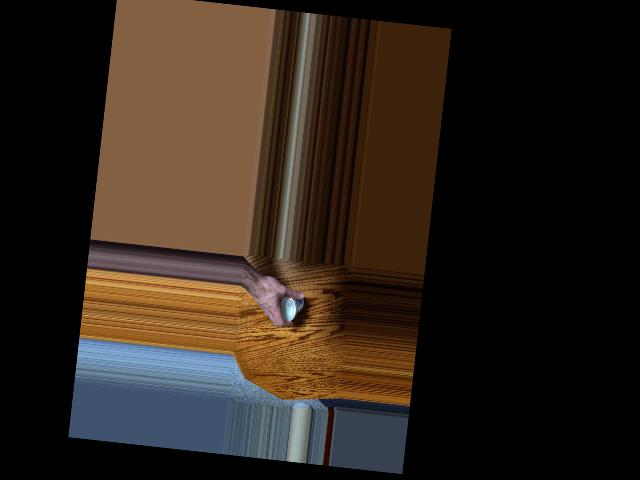cotage: (276, 287, 304, 322)
